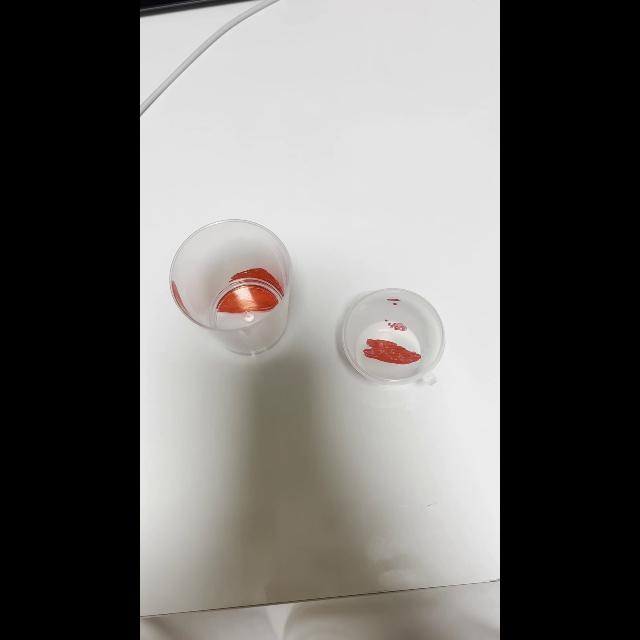dirty: (170, 221, 292, 355), (341, 290, 445, 386)
